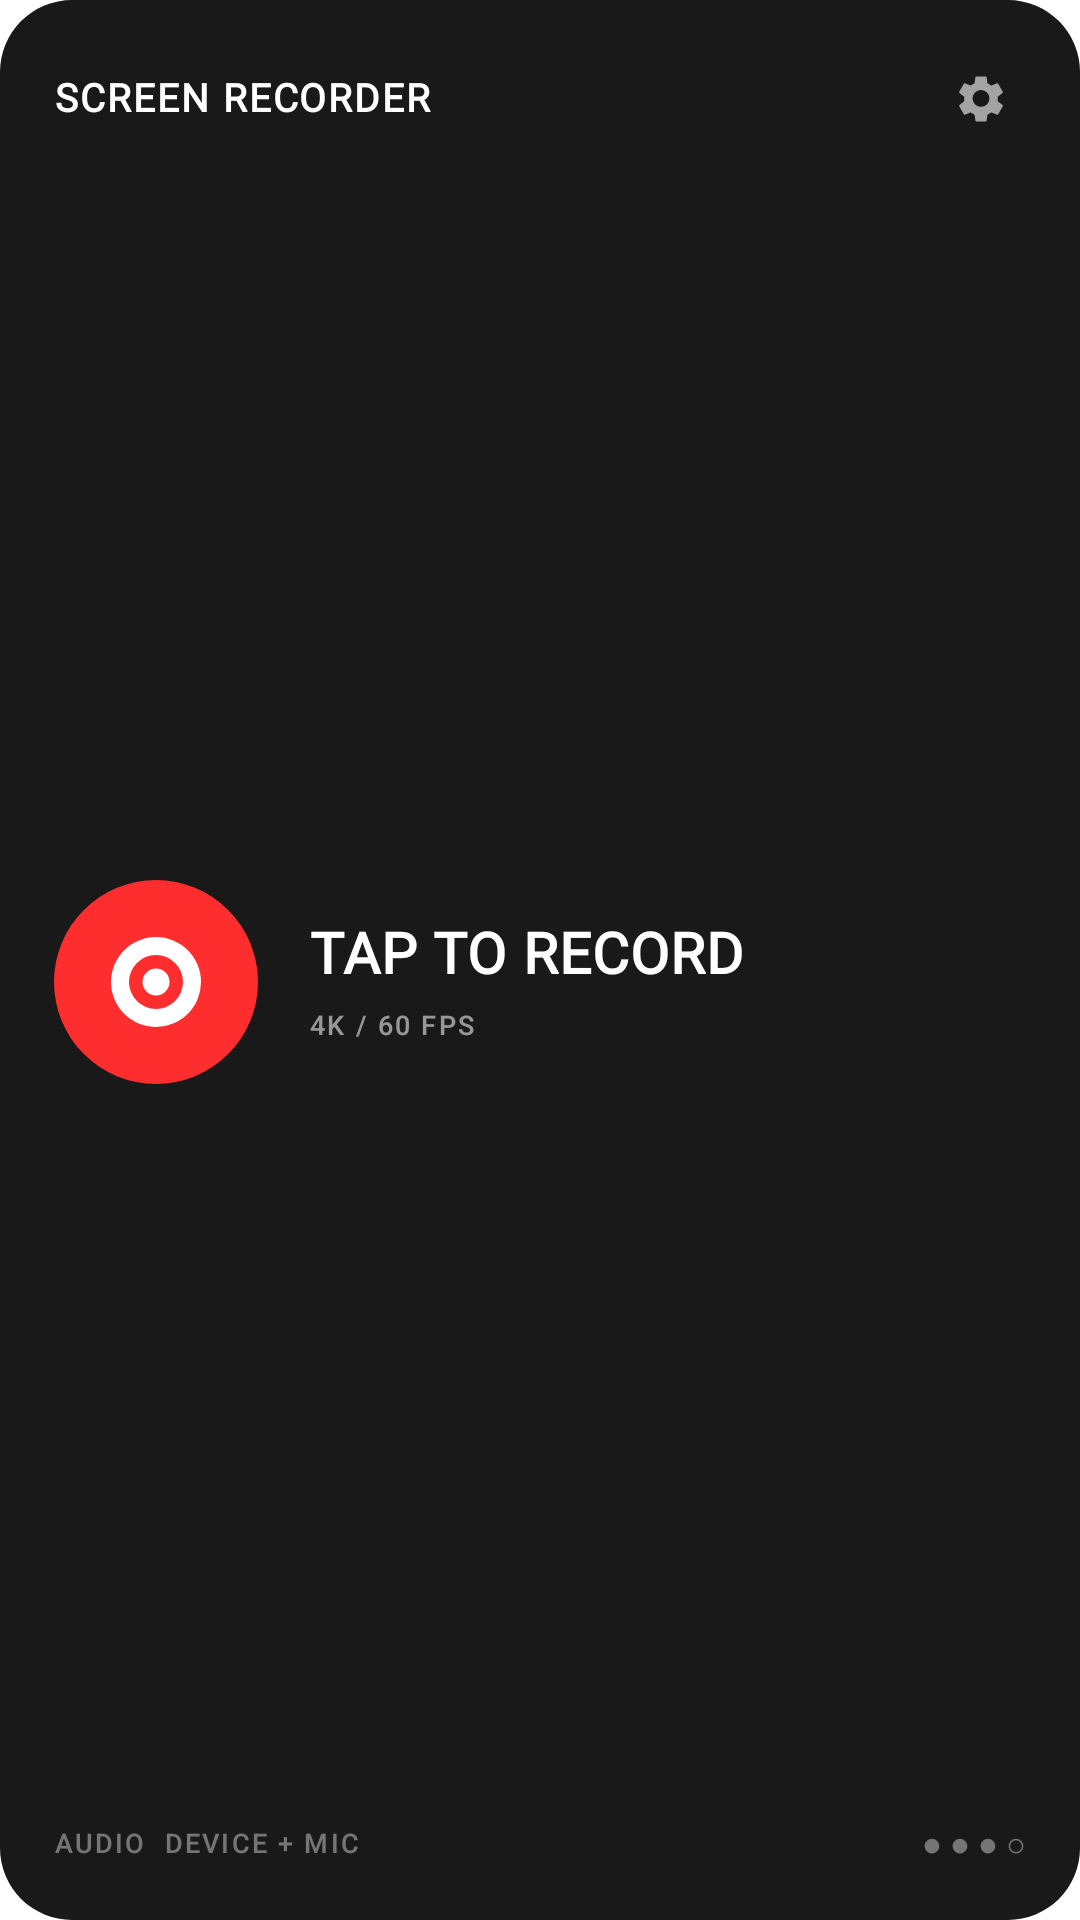

Screen size 1080x1920. Icon name, then its center in pixels as (x,y):
Recorder settings: (981,99)
